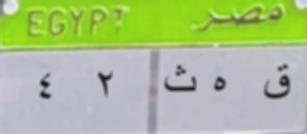2: (92, 64, 120, 99)
4: (33, 68, 58, 106)
haa: (206, 76, 235, 97)
qaaf: (263, 63, 293, 104)
thaa: (162, 64, 199, 97)
